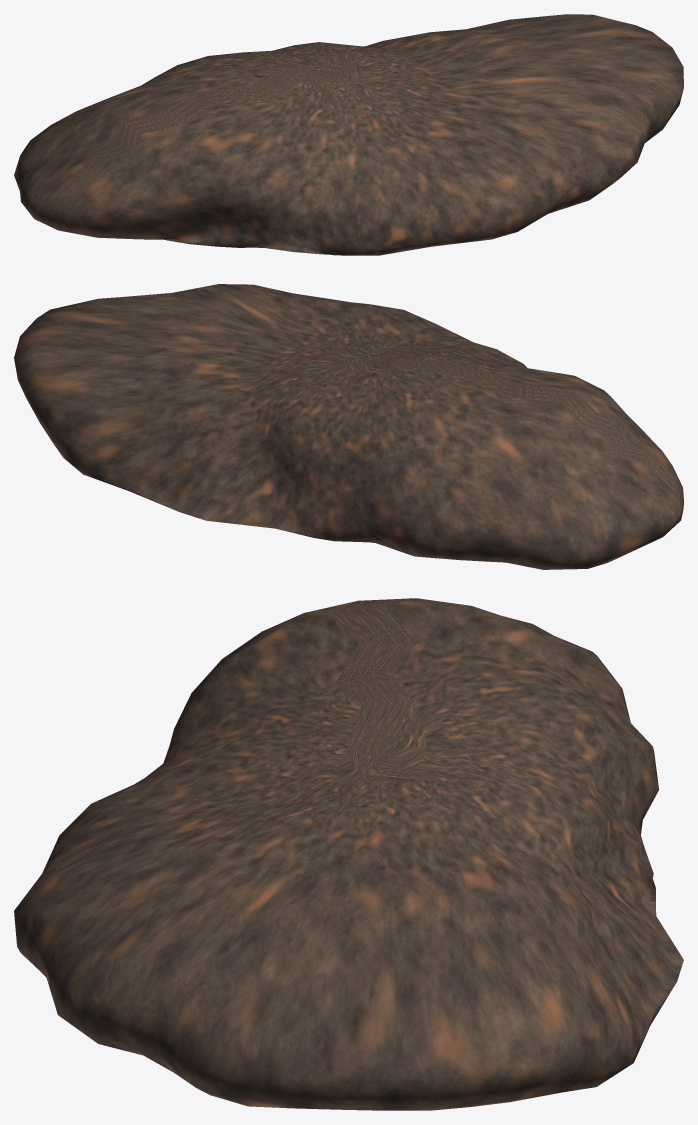
File: boulder_2.dae
The picture shows the model from 3 angles, top to bottom: view 1: azimuth 30°, elevation 25°; view 2: azimuth 150°, elevation 25°; view 3: azimuth 270°, elevation 25°; orthographic projection. The views are drawn at different scales.
Parts seen in each view (by area): view 1: boulder_2; view 2: boulder_2; view 3: boulder_2.
Boxes of the visible parts, x1,y1,x2,y2 form: boulder_2: (14,14,683,255); boulder_2: (14,284,683,569); boulder_2: (14,598,683,1110).
Bounding box in the file's own units: 3.35 × 1.95 × 0.5549.
Materials: 1 (1 with a texture image).
